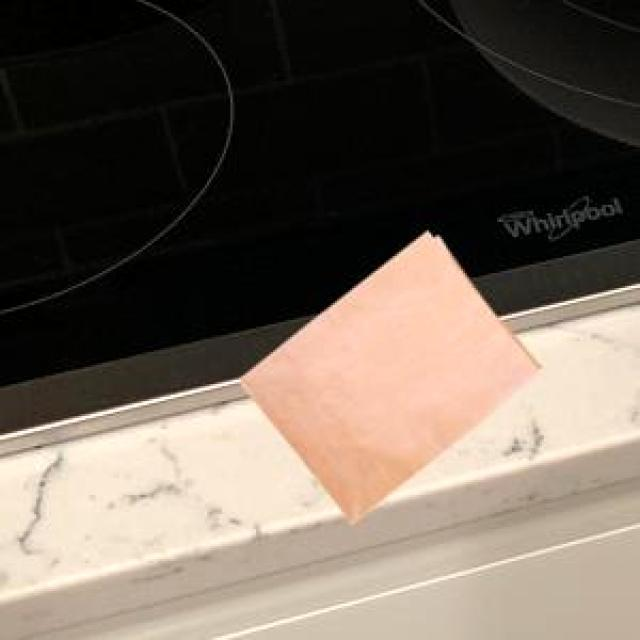Paper_Bag: (236, 230, 538, 520)
